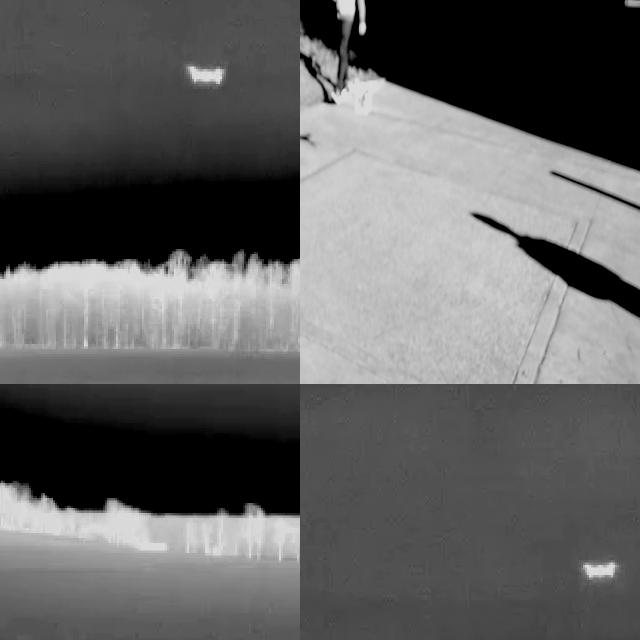1: (178, 59, 238, 94), (571, 555, 631, 590)
drone: (350, 74, 386, 120)
